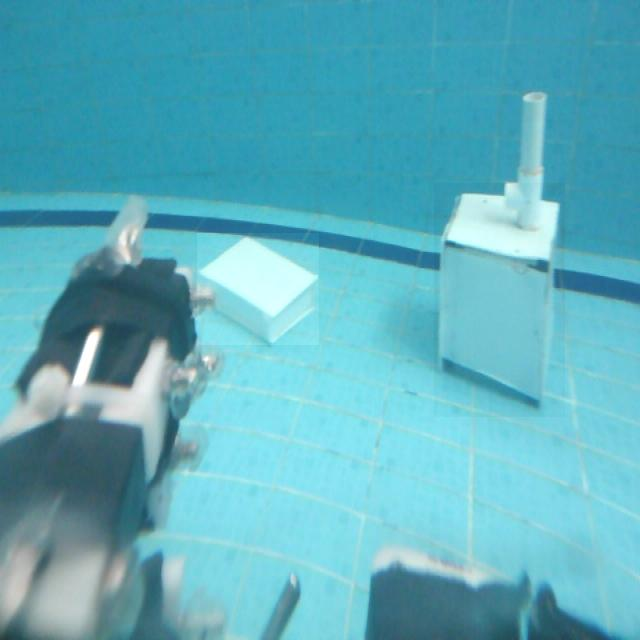Cube: (434, 183, 565, 417)
Cuboid: (197, 234, 319, 346)
